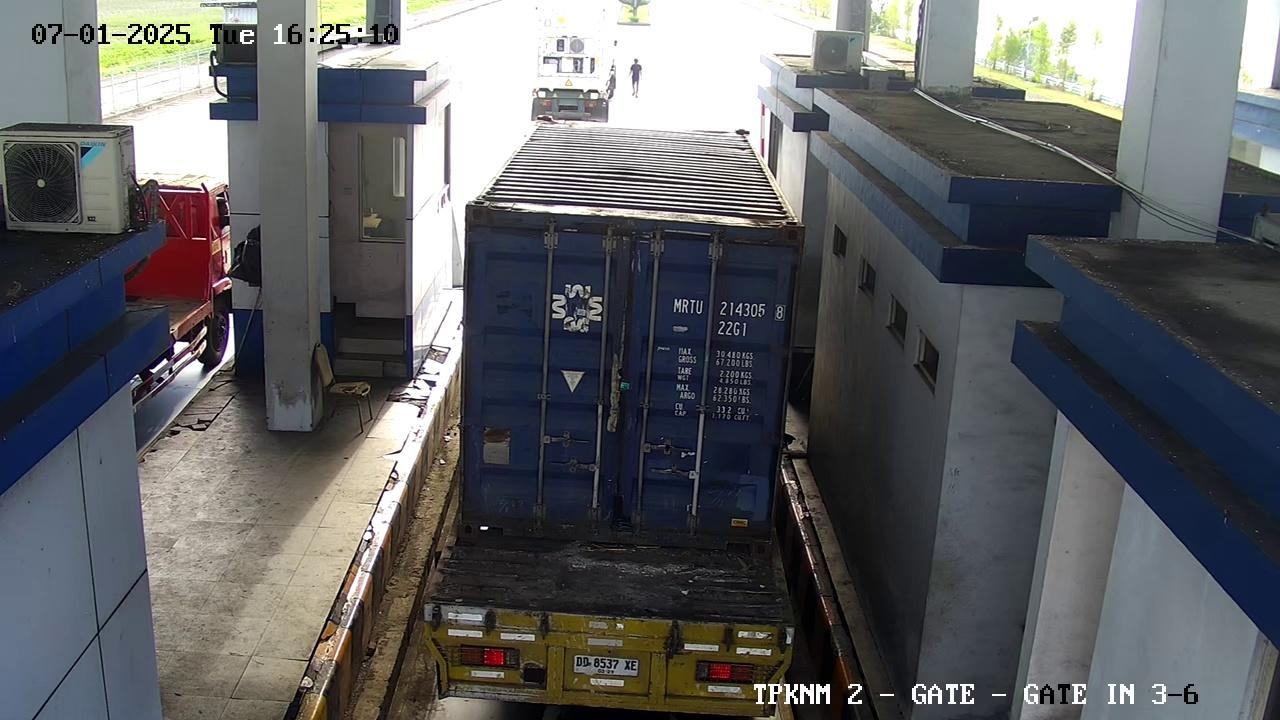Container_ID: (645, 277, 803, 346)
plate_number: (562, 645, 652, 695)
